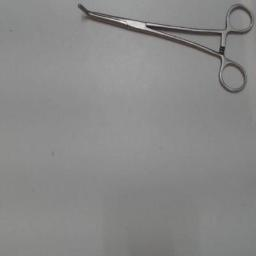Lahey Forceps: (74, 0, 254, 96)
